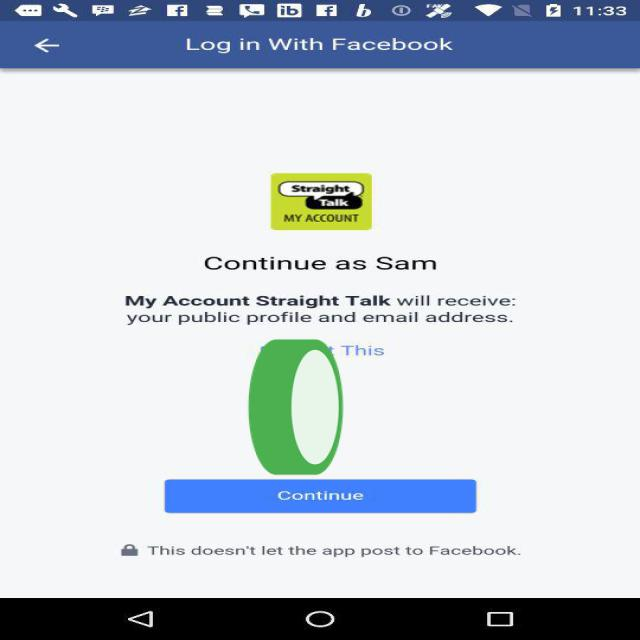social proof: (244, 288, 347, 538)
